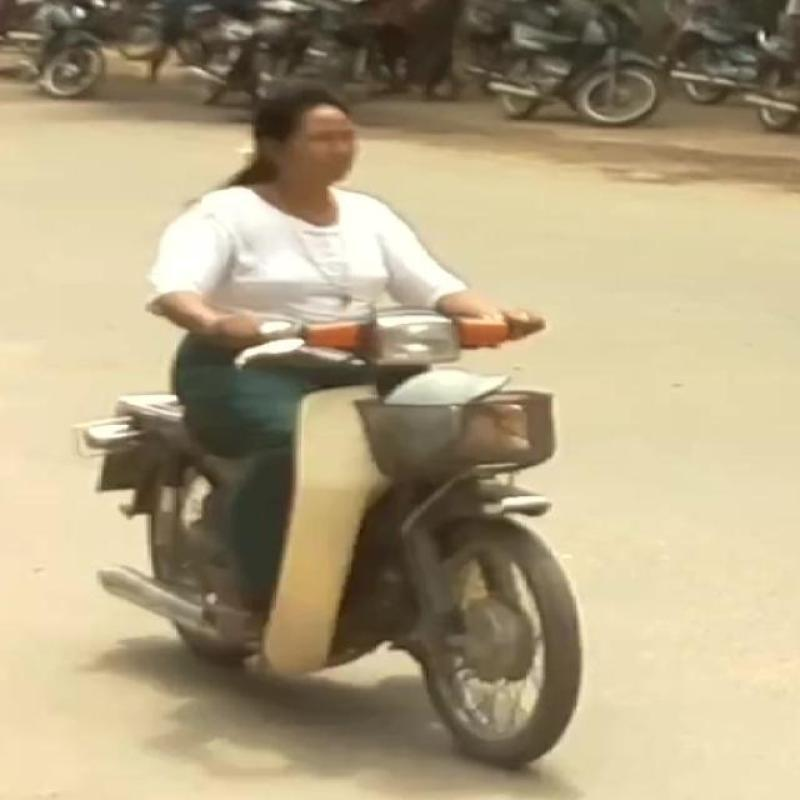nohelmet: (221, 64, 421, 202)
